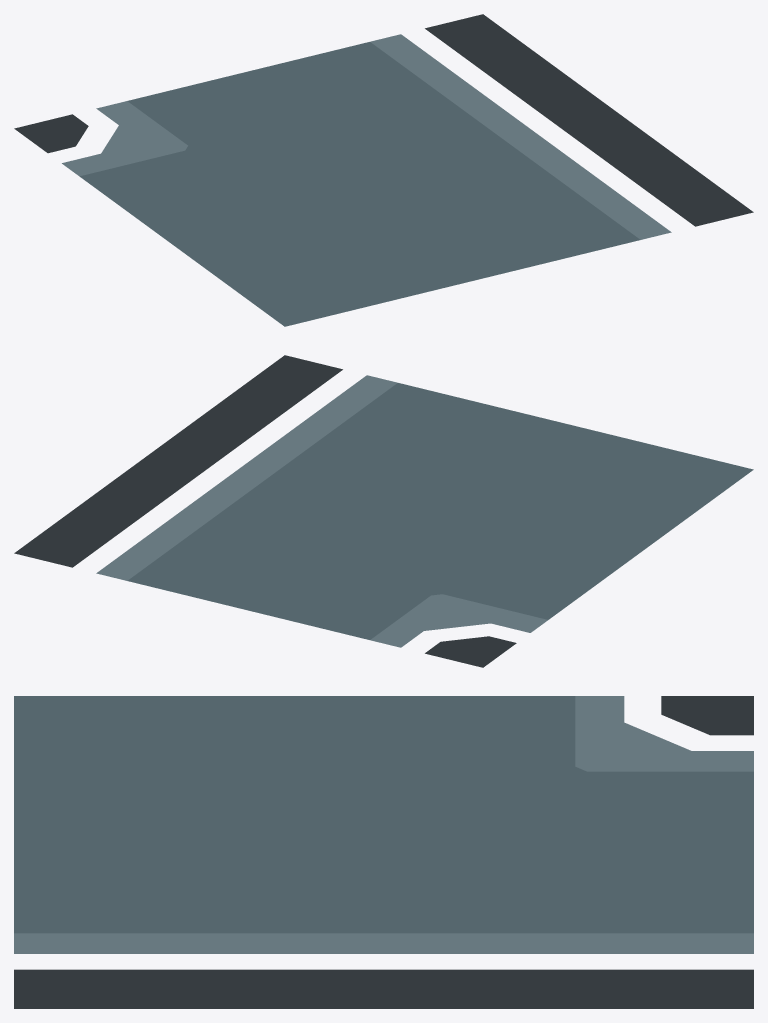
Rendered from Ceiling_type_C_052_003.glb.
3 views of the same model, one above another, from view 1: azimuth 30°, elevation 25°; view 2: azimuth 150°, elevation 25°; view 3: azimuth 270°, elevation 25° (orthographic). The views are drawn at different scales.
Visible parts, largest first — view 1: Ceiling_type_C_052.003; view 2: Ceiling_type_C_052.003; view 3: Ceiling_type_C_052.003.
Part boxes in pixels (x1=…): Ceiling_type_C_052.003: x1=14, y1=14, x2=753, y2=326; Ceiling_type_C_052.003: x1=14, y1=355, x2=753, y2=667; Ceiling_type_C_052.003: x1=14, y1=696, x2=753, y2=1008.
Size of the model in its own units: 4 by 0.035 by 4.
Materials: 2 (2 with a texture image).
